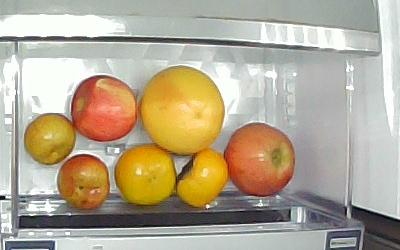apple: (224, 123, 295, 198), (71, 75, 138, 143)
grapefruit: (139, 65, 225, 154)
persimmon: (115, 145, 177, 205), (176, 149, 228, 209)
prune: (56, 154, 112, 210), (25, 113, 76, 166)
